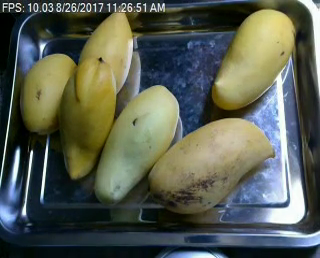Mango: (149, 117, 276, 212), (92, 85, 181, 206), (208, 8, 298, 113), (59, 58, 116, 179), (74, 7, 133, 99), (21, 54, 77, 134)
